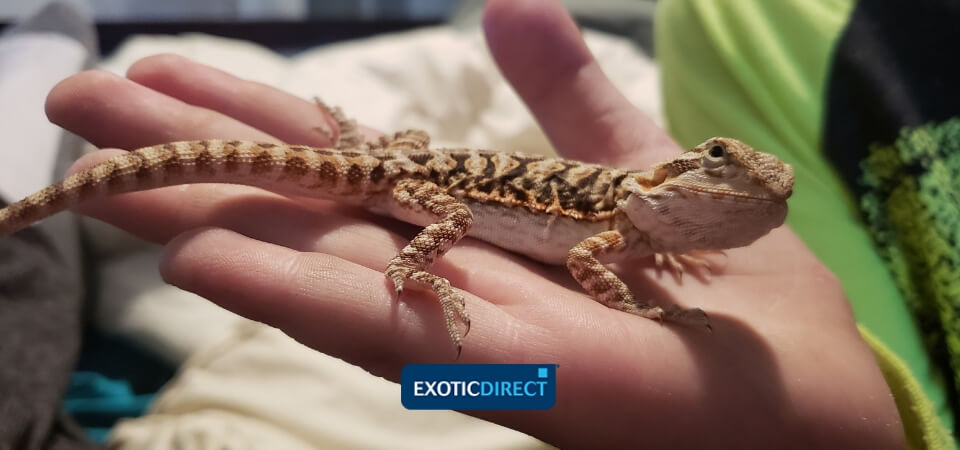bearded: (1, 130, 805, 340)
